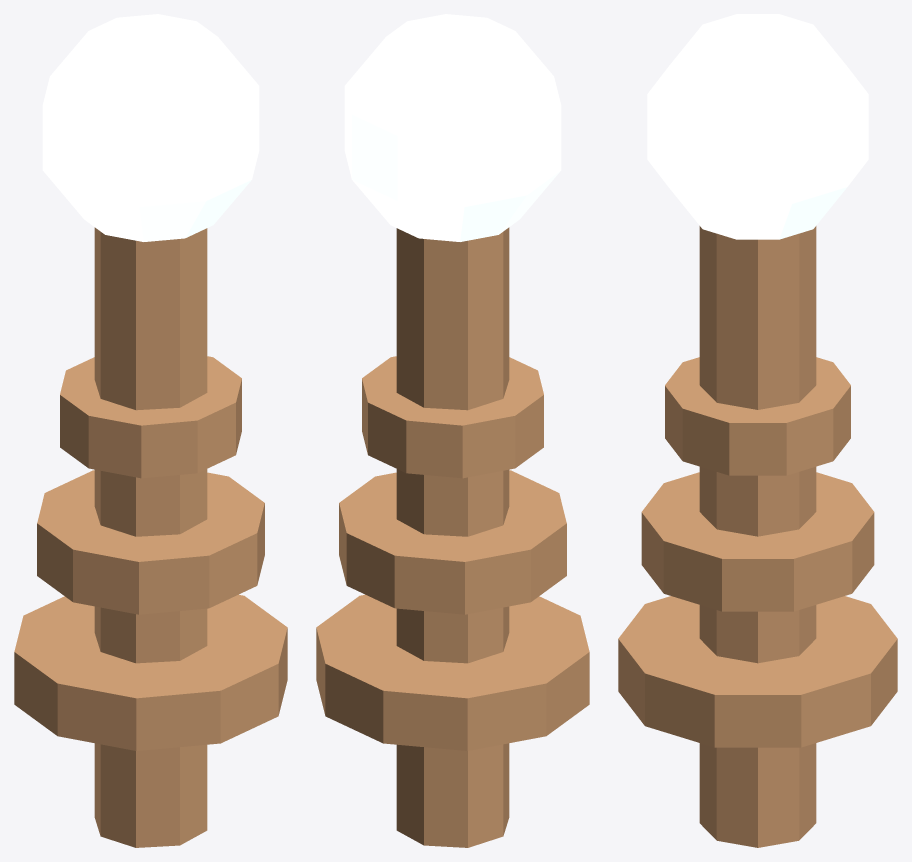
File: coil.glb
The picture shows the model from 3 angles, left to right: view 1: azimuth 30°, elevation 25°; view 2: azimuth 150°, elevation 25°; view 3: azimuth 270°, elevation 25°; orthographic projection.
Visible parts, largest first — view 1: coil, tip, winding0, winding1, winding2; view 2: coil, tip, winding0, winding1, winding2; view 3: coil, tip, winding0, winding1, winding2.
Part boxes in pixels (left/top/right/bottom): coil: left=94, top=227, right=207, bottom=847; tip: left=42, top=14, right=259, bottom=241; winding0: left=14, top=594, right=287, bottom=750; winding1: left=37, top=470, right=264, bottom=614; winding2: left=60, top=356, right=241, bottom=478; coil: left=396, top=227, right=509, bottom=847; tip: left=344, top=14, right=561, bottom=241; winding0: left=316, top=594, right=589, bottom=750; winding1: left=339, top=470, right=566, bottom=614; winding2: left=362, top=356, right=543, bottom=478; coil: left=699, top=226, right=816, bottom=847; tip: left=647, top=14, right=868, bottom=239; winding0: left=618, top=596, right=897, bottom=747; winding1: left=641, top=472, right=874, bottom=611; winding2: left=665, top=357, right=850, bottom=475.
Size of the model in its own units: 0.2283 by 0.76 by 0.24.
